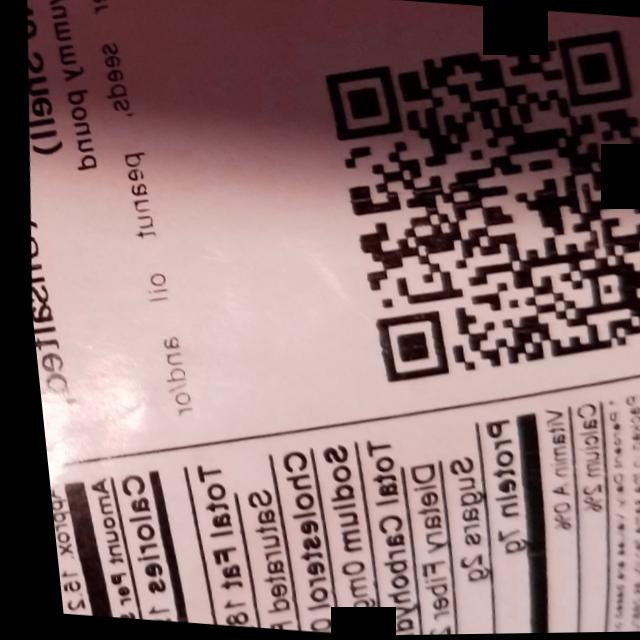QR_CODE: (283, 0, 640, 416)
